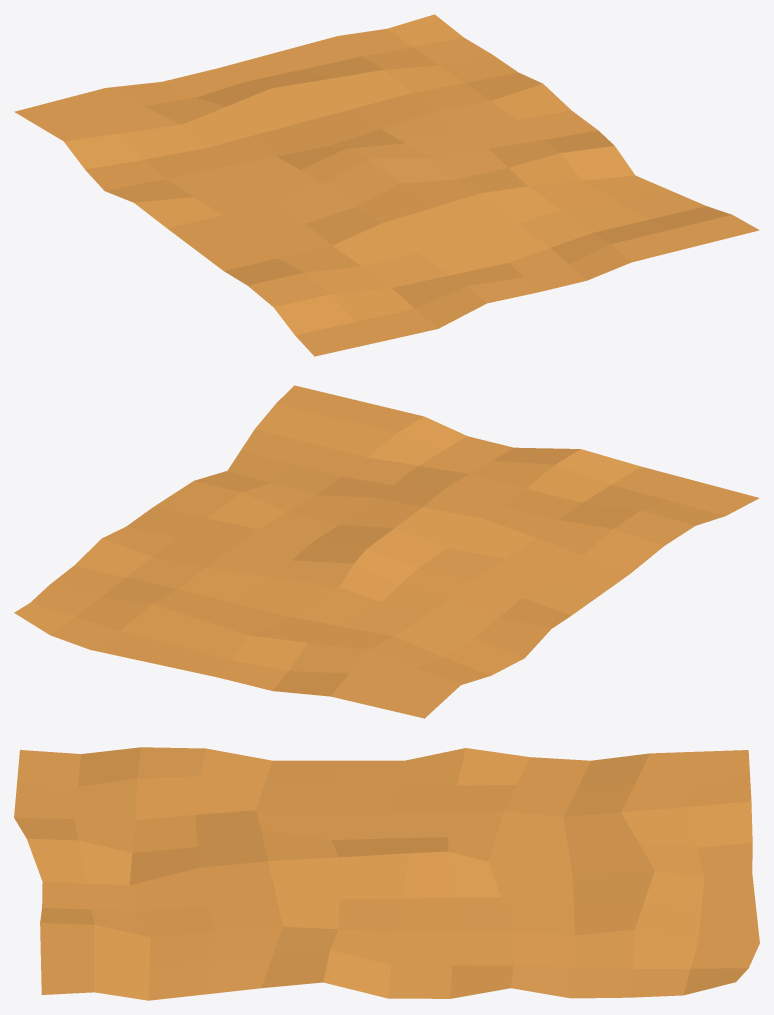
Rendered from sandGround.fbx.
3 views of the same model, one above another, from view 1: azimuth 30°, elevation 25°; view 2: azimuth 150°, elevation 25°; view 3: azimuth 270°, elevation 25° (orthographic). The views are drawn at different scales.
Parts seen in each view (by area): view 1: Ground; view 2: Ground; view 3: Ground.
Part boxes in pixels (x1=…): Ground: x1=14, y1=14, x2=759, y2=356; Ground: x1=14, y1=385, x2=759, y2=718; Ground: x1=14, y1=747, x2=759, y2=1000.
Bounding box in the file's own units: 52.18 × 64.59 × 2.08.
